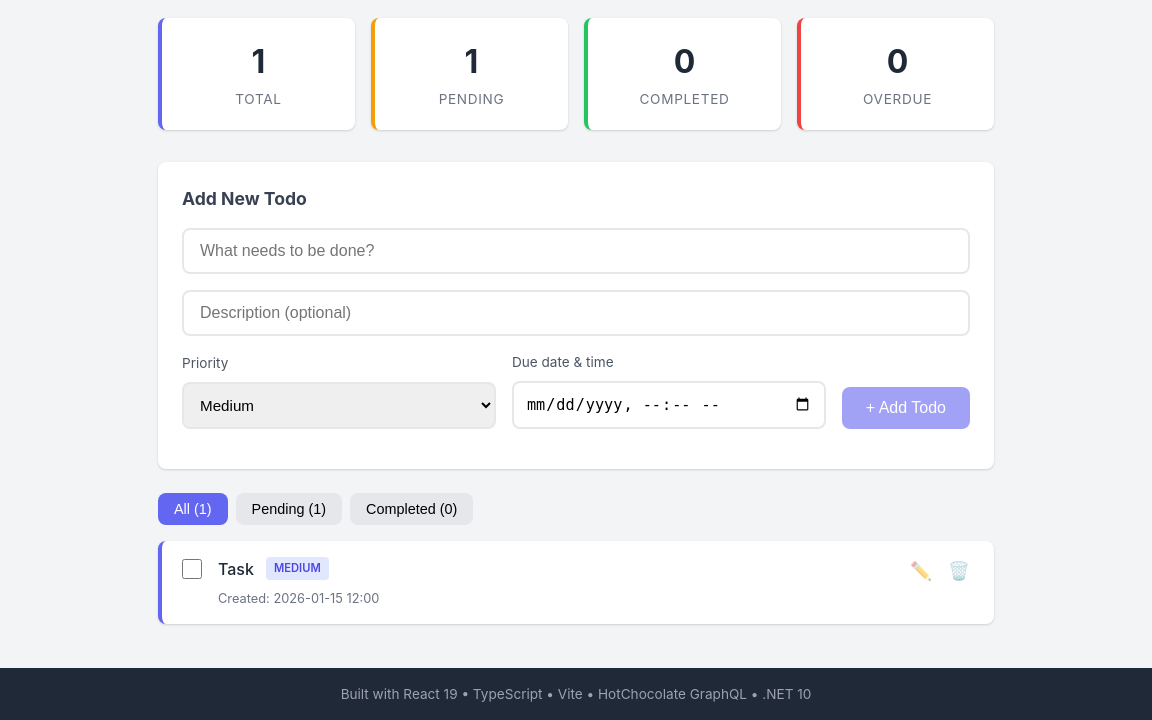
Test: App › reports a failed statistics refresh without undoing the change
(page scrolled)
Expected: the element named "Statistics" is shown, [158,18,994,130]
Click the checkbox named "Mark Task as completed": (192, 569) [182,559,202,579]
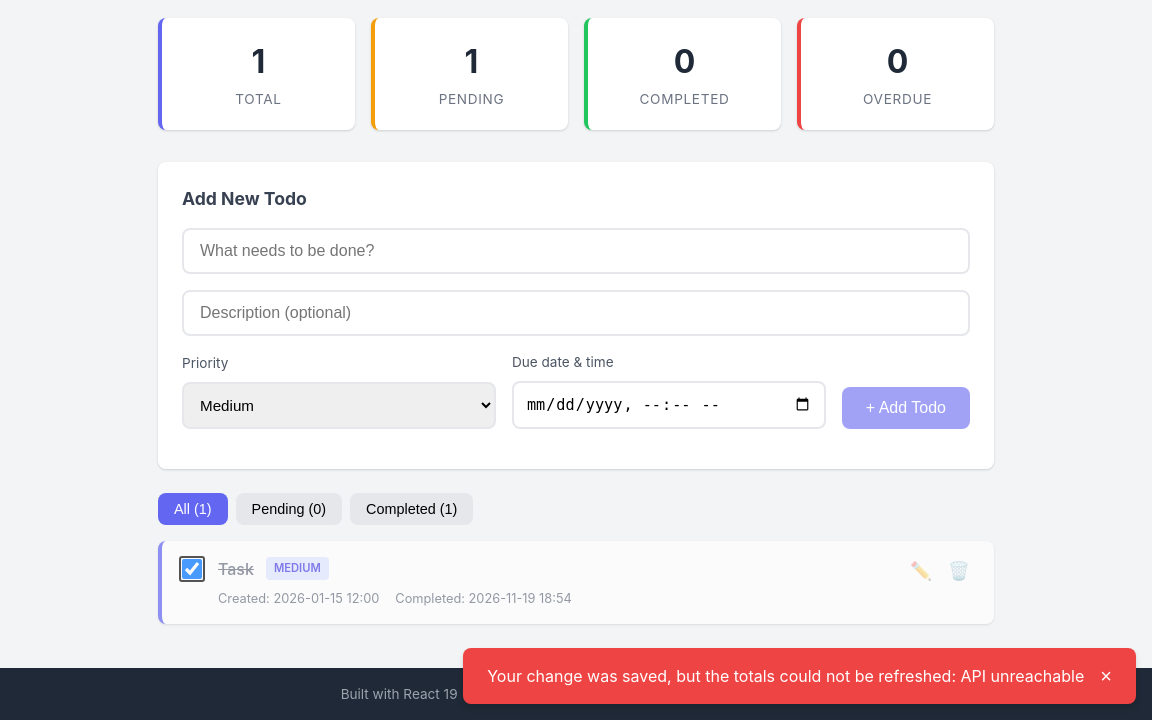
Expected: the checkbox named "Mark Task as not completed" is checked, [182,559,202,579]
Expected: the message shows "totals could not be refreshed", [487,666,1084,686]
